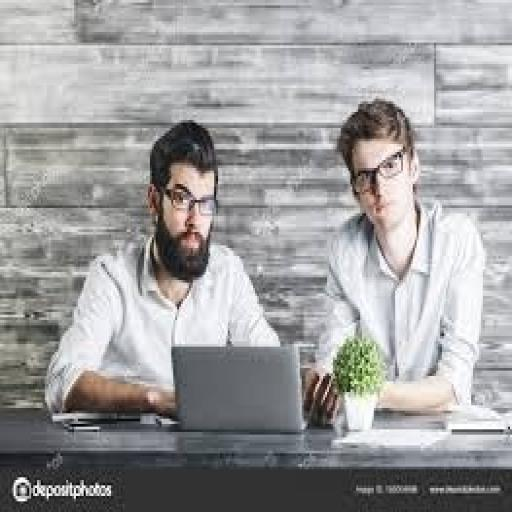using_laptop: (167, 341, 327, 435)
